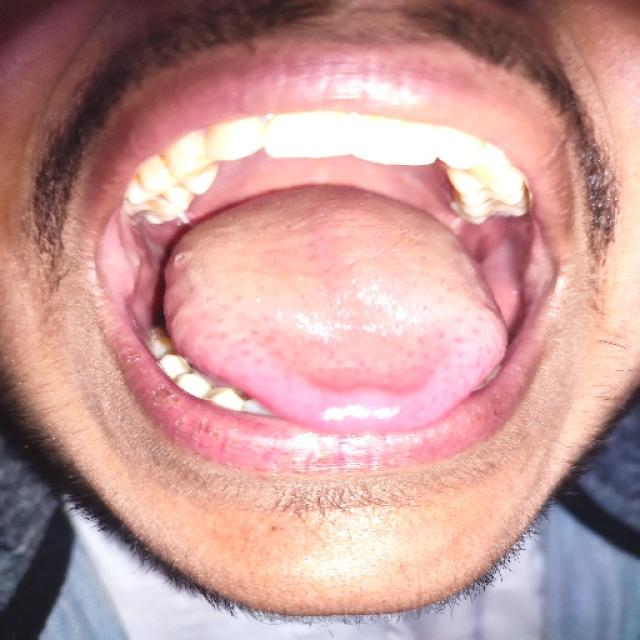processing_area: (160, 160, 544, 438)
